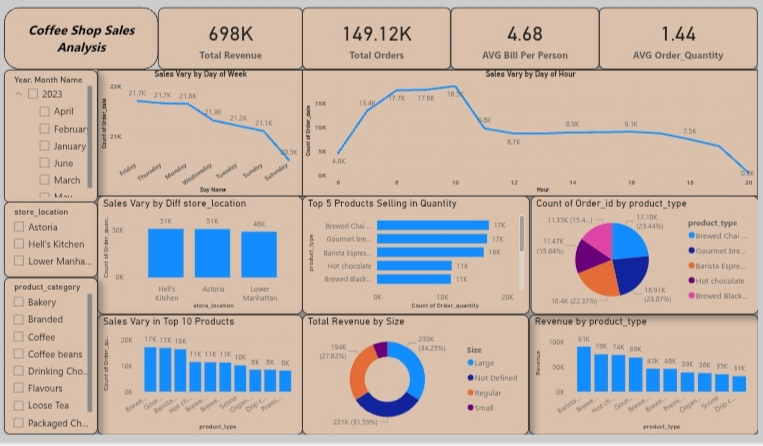

The dashboard page shown, as its layout file describes it:
{"tool":"powerbi","page":{"name":"Dashboard","canvas":[1280,720],"ordinal":0},"visuals":[{"type":"shape","box":[9.3,0,259.8,104.4],"z":0},{"type":"card","fields":{"Values":["Sum(Orders.Total_bill)"]},"box":[269.1,0,243.6,104.4],"z":1000},{"type":"card","fields":{"Values":["CountNonNull(Orders.Order_id)"]},"box":[512.7,0,250.5,104.4],"z":2000},{"type":"card","fields":{"Values":["Avg(Orders.Total_bill)"]},"box":[763.2,0,250.5,104.4],"z":3000},{"type":"card","fields":{"Values":["Avg(Orders.Order_quantity)"]},"box":[1013.7,0,266.8,104.4],"z":4000},{"type":"lineChart","title":"Sales Vary by Day of Week","fields":{"Category":["Orders.Day Name"],"Y":["CountNonNull(Orders.Order_date)"]},"box":[167,104.4,345.6,213.4],"z":5000},{"type":"lineChart","title":"Sales Vary by Day of Hour","fields":{"Category":["Orders.Hour"],"Y":["CountNonNull(Orders.Order_date)"]},"box":[512.7,104.4,767.9,213.4],"z":6000},{"type":"slicer","fields":{"Values":["Orders.Order_date.Variation.Date Hierarchy.Year","Orders.Month Name"]},"box":[9.3,104.4,157.7,223.9],"z":7000},{"type":"slicer","fields":{"Values":["Orders.store_location"]},"box":[9.3,328.3,157.7,127.6],"z":8000},{"type":"columnChart","title":"Sales Vary by Diff store_location","fields":{"Category":["Orders.store_location"],"Y":["CountNonNull(Orders.Order_quantity)"]},"box":[167,317.8,345.6,199.5],"z":9000},{"type":"barChart","title":"Top 5 Products Selling in Quantity ","fields":{"Category":["Orders.product_type"],"Y":["CountNonNull(Orders.Order_quantity)"]},"box":[512.7,317.8,382.8,199.5],"z":10000},{"type":"columnChart","fields":{"Category":["Orders.product_type"],"Y":["Sum(Orders.Total_bill)"]},"box":[894.3,517.3,386.2,203],"z":11000},{"type":"columnChart","title":"Sales Vary in Top 10 Products","fields":{"Y":["CountNonNull(Orders.Order_quantity)"],"Category":["Orders.product_type"]},"box":[167,517.3,345.6,203],"z":12000},{"type":"donutChart","fields":{"Category":["Orders.Size"],"Y":["Sum(Orders.Total_bill)"]},"box":[512.7,517.3,381.6,203],"z":13000},{"type":"pieChart","fields":{"Category":["Orders.product_type"],"Y":["CountNonNull(Orders.Order_id)"]},"box":[896.6,317.8,383.9,199.5],"z":14000},{"type":"slicer","fields":{"Values":["Orders.product_category"]},"box":[9.3,455.8,157.7,264.5],"z":15000}]}

Visuals, with their boxes in screenshot pixels (x1, y1, x2, y2):
shape: (3, 8, 156, 69)
card - Sum(Orders.Total_bill): (156, 8, 299, 69)
card - CountNonNull(Orders.Order_id): (299, 8, 447, 69)
card - Avg(Orders.Total_bill): (447, 8, 594, 69)
card - Avg(Orders.Order_quantity): (594, 8, 751, 69)
"Sales Vary by Day of Week" lineChart: (96, 69, 299, 195)
"Sales Vary by Day of Hour" lineChart: (299, 69, 751, 195)
slicer - Orders.Order_date.Variation.Date Hierarchy.Year x Orders.Month Name: (3, 69, 96, 201)
slicer - Orders.store_location: (3, 201, 96, 276)
"Sales Vary by Diff store_location" columnChart: (96, 195, 299, 312)
"Top 5 Products Selling in Quantity " barChart: (299, 195, 524, 312)
columnChart - Orders.product_type x Sum(Orders.Total_bill): (524, 312, 751, 431)
"Sales Vary in Top 10 Products" columnChart: (96, 312, 299, 431)
donutChart - Orders.Size x Sum(Orders.Total_bill): (299, 312, 524, 431)
pieChart - Orders.product_type x CountNonNull(Orders.Order_id): (525, 195, 751, 312)
slicer - Orders.product_category: (3, 276, 96, 431)
